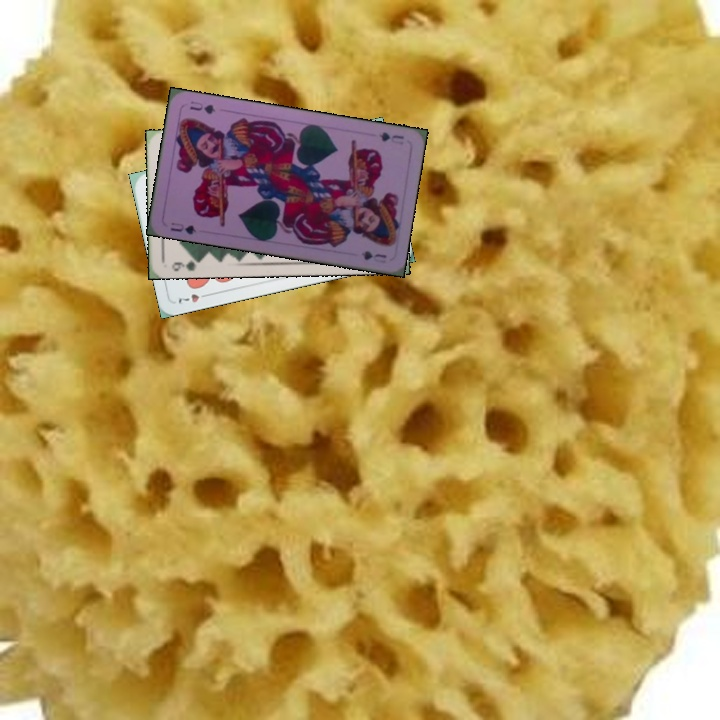G9: (167, 253, 204, 274)
GU: (166, 218, 199, 237), (375, 128, 407, 147)
H7: (174, 289, 213, 307)
